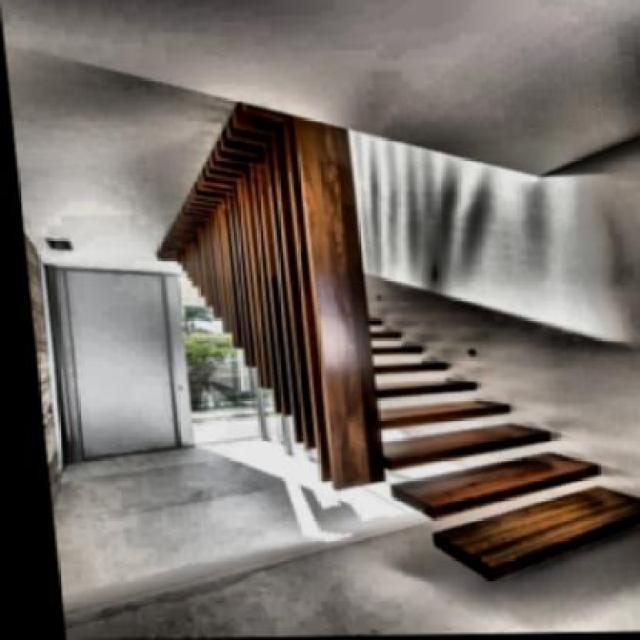stair: (330, 300, 638, 574)
